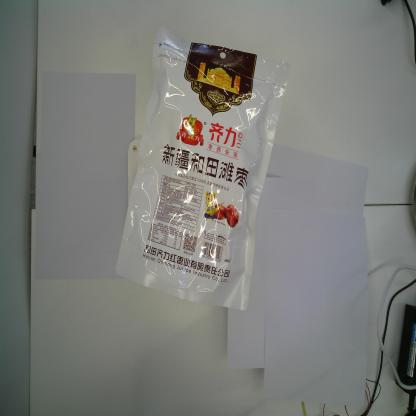Dried Food: (113, 24, 293, 320)
